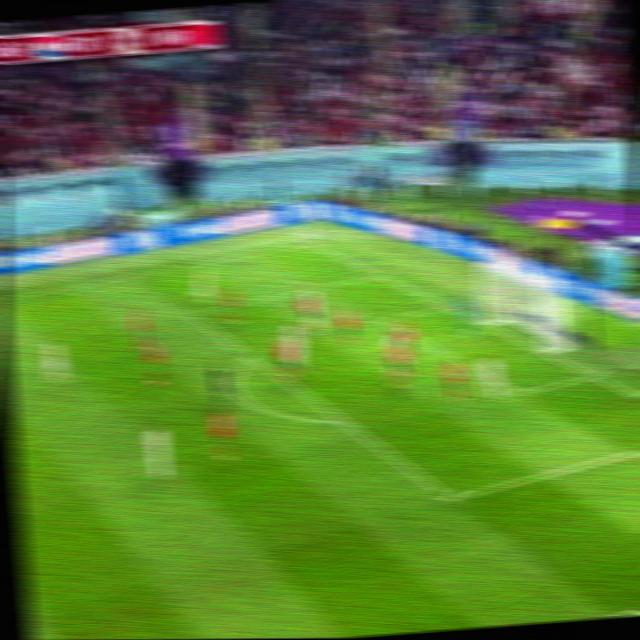bigarea_bottom_inner: (436, 484, 465, 511)
bigarea_top_inner: (176, 302, 201, 324)
bigarea_top_outter: (367, 266, 390, 283)
bottom_arc_area_intersection: (329, 408, 354, 432)
corner: (297, 235, 321, 250)
smallarea_bottom_inner: (505, 378, 532, 403)
smallarea_bottom_outter: (580, 365, 605, 385)
smallarea_top_inner: (371, 310, 394, 330)
smallarea_top_outter: (433, 295, 458, 315)
top_arc_area_intersection: (238, 345, 262, 368)
